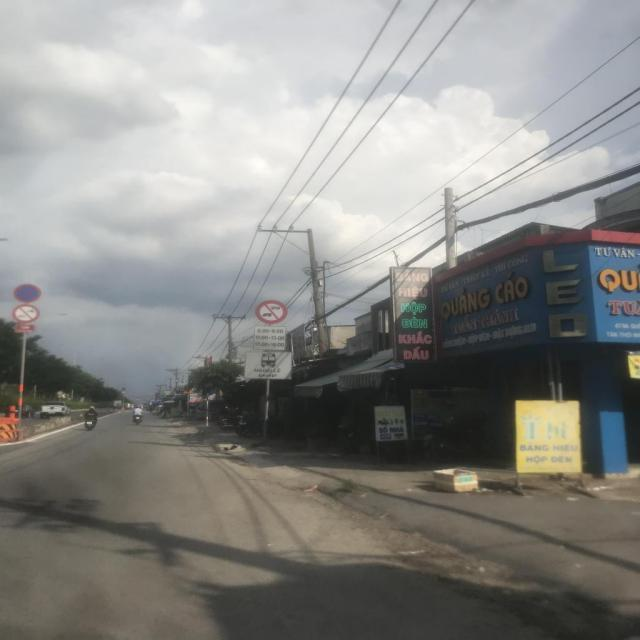107-cam-oto-khach-va-oto-tai: (256, 300, 288, 324)
130-cam-dung-va-do-xe: (14, 282, 41, 302)
